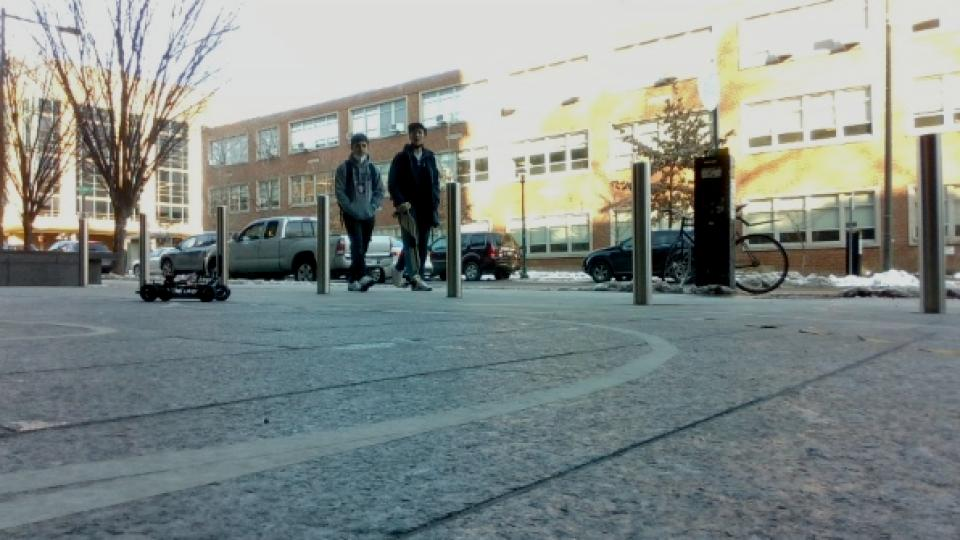car: (134, 256, 238, 309)
